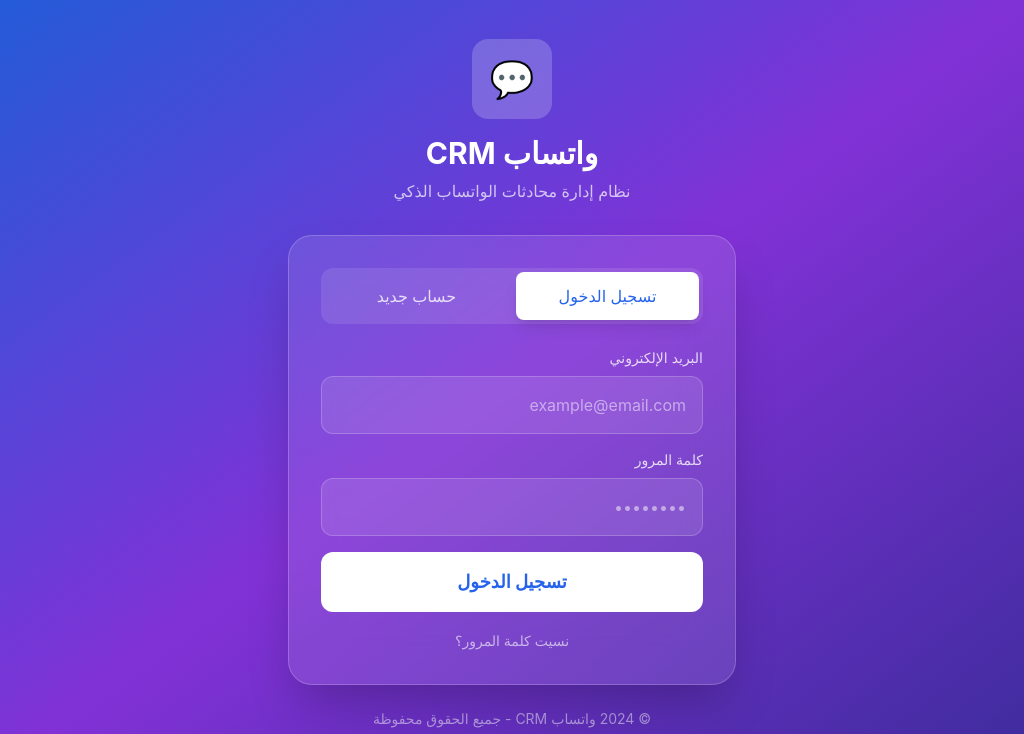
LoginPage › switches to register form
// Click on create account tab
Click the button "حساب جديد" at (416, 296), box top-left (325, 272), bottom-right (508, 320)
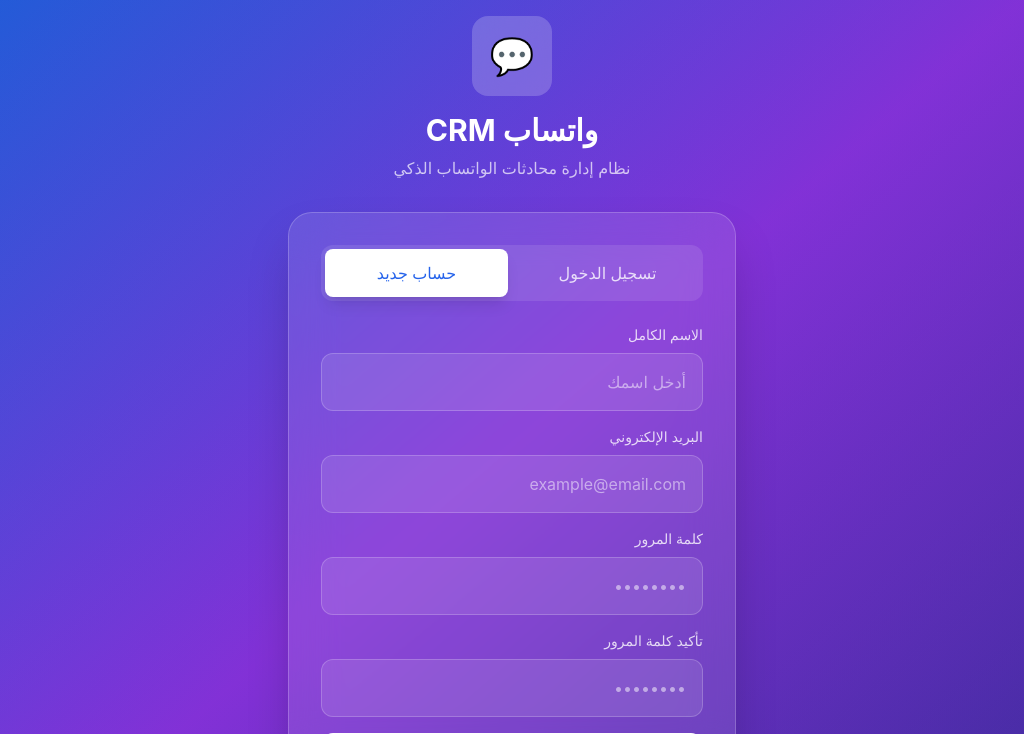
Now the text "تأكيد كلمة المرور" is shown, box top-left (604, 632), bottom-right (703, 649)
Now the text "الاسم الكامل" is shown, box top-left (628, 326), bottom-right (703, 343)
